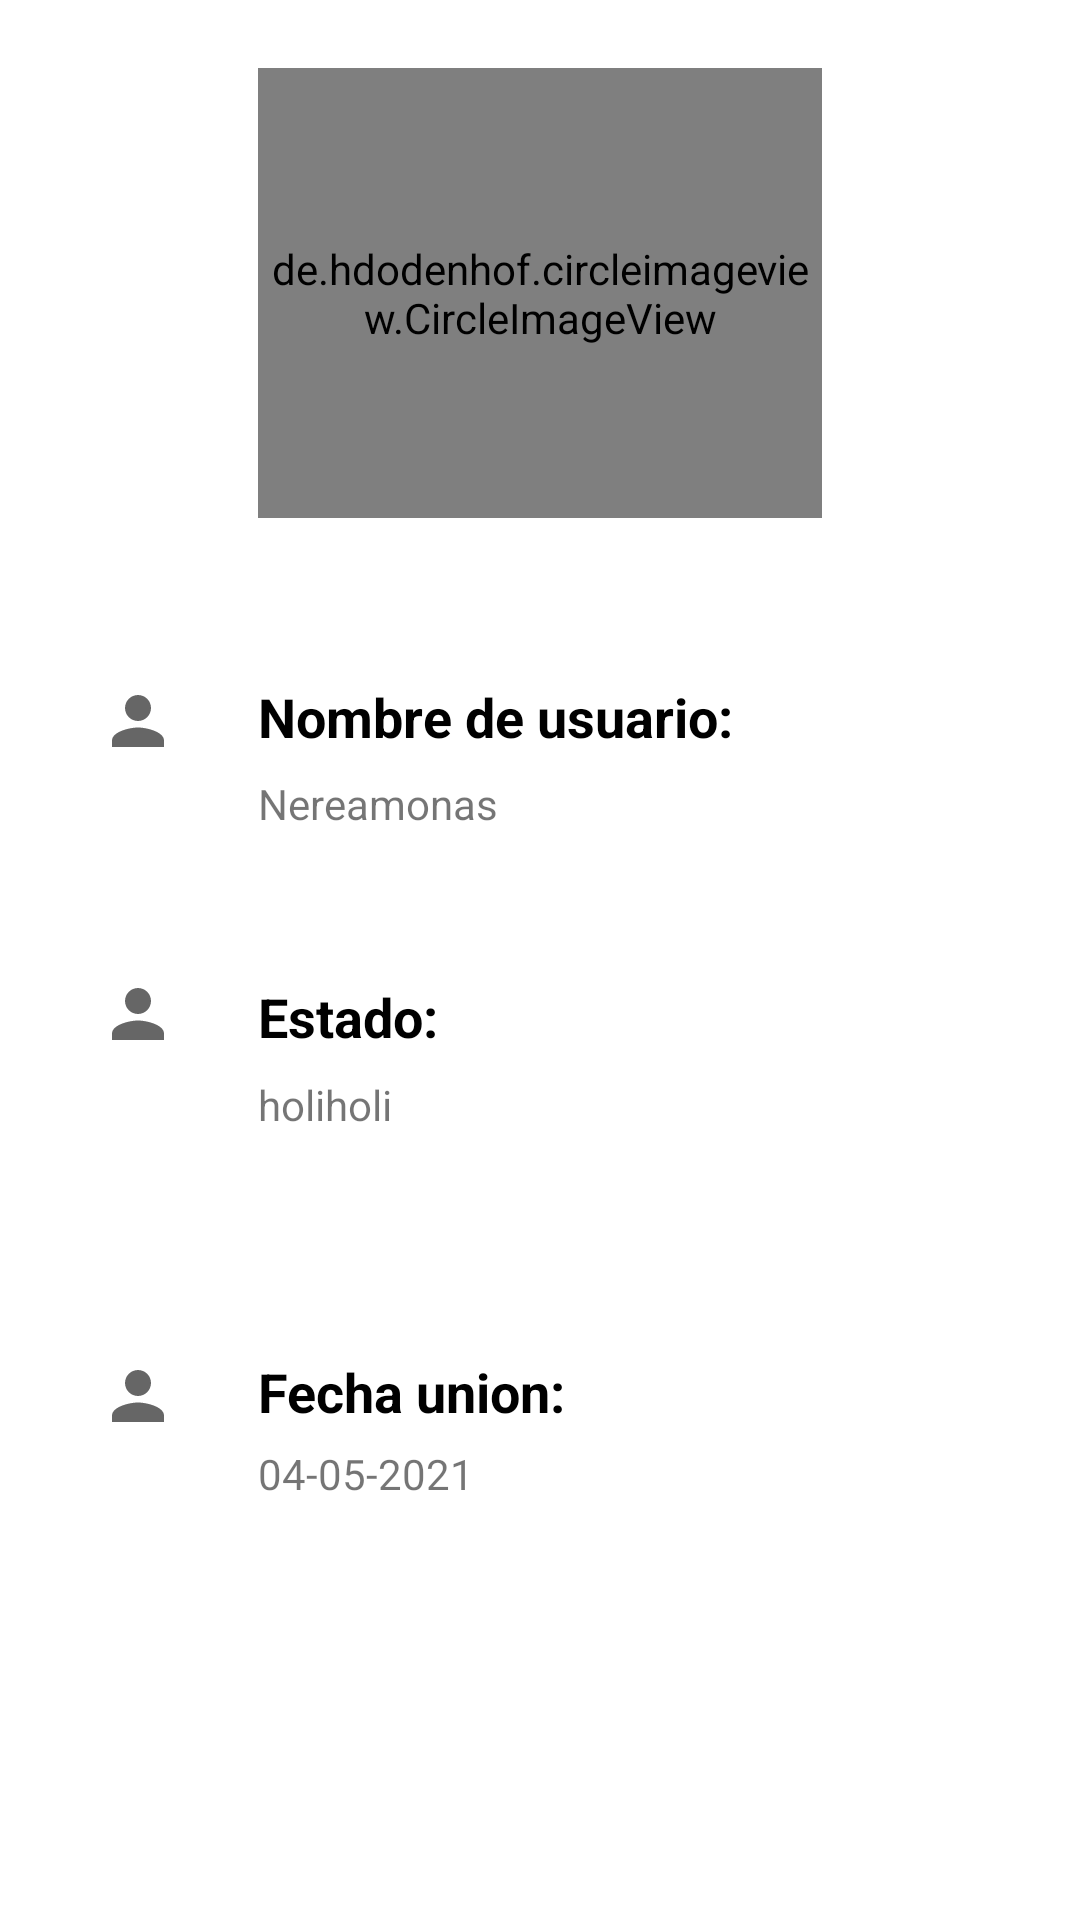

Point at icon controls on the screen. Image size 1080px x 1920px, points as point (x, y).
perfil: point (138, 721), point (138, 1014), point (138, 1396)
